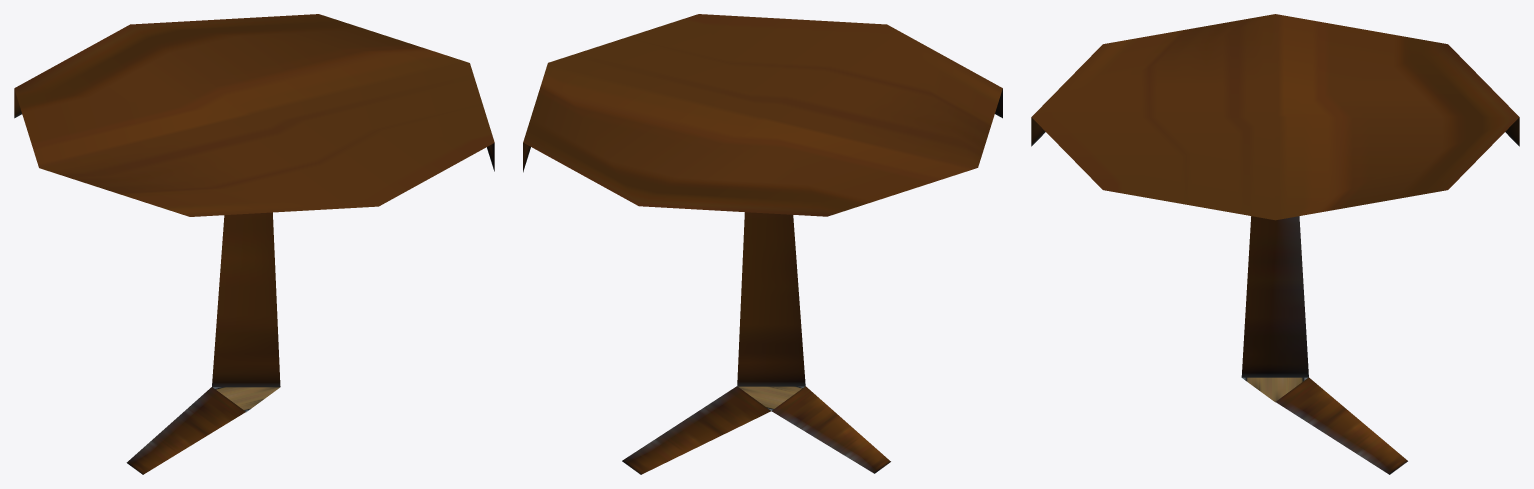
The model's file is Tisch_Rund [Braun]_2368.glb.
3 views of the same model, side by side, from view 1: azimuth 30°, elevation 25°; view 2: azimuth 150°, elevation 25°; view 3: azimuth 270°, elevation 25° (orthographic).
Parts seen in each view (by area): view 1: pPlaneShape67, pCylinderShape101, pPlaneShape64; view 2: pPlaneShape67, pCylinderShape101, pPlaneShape65, pPlaneShape64; view 3: pPlaneShape67, pCylinderShape101, pPlaneShape65.
Part boxes in pixels (x1,y1,x2,y2): pPlaneShape67: (14, 14, 494, 216); pCylinderShape101: (212, 212, 280, 412); pPlaneShape64: (126, 387, 245, 474); pPlaneShape67: (523, 14, 1002, 216); pCylinderShape101: (737, 212, 805, 410); pPlaneShape65: (622, 386, 771, 474); pPlaneShape64: (772, 386, 890, 473); pPlaneShape67: (1031, 14, 1519, 220); pCylinderShape101: (1241, 216, 1308, 402); pPlaneShape65: (1276, 377, 1407, 474).
Size of the model in its own units: 0.1581 by 0.1136 by 0.1581.
6 materials, 6 textured.
